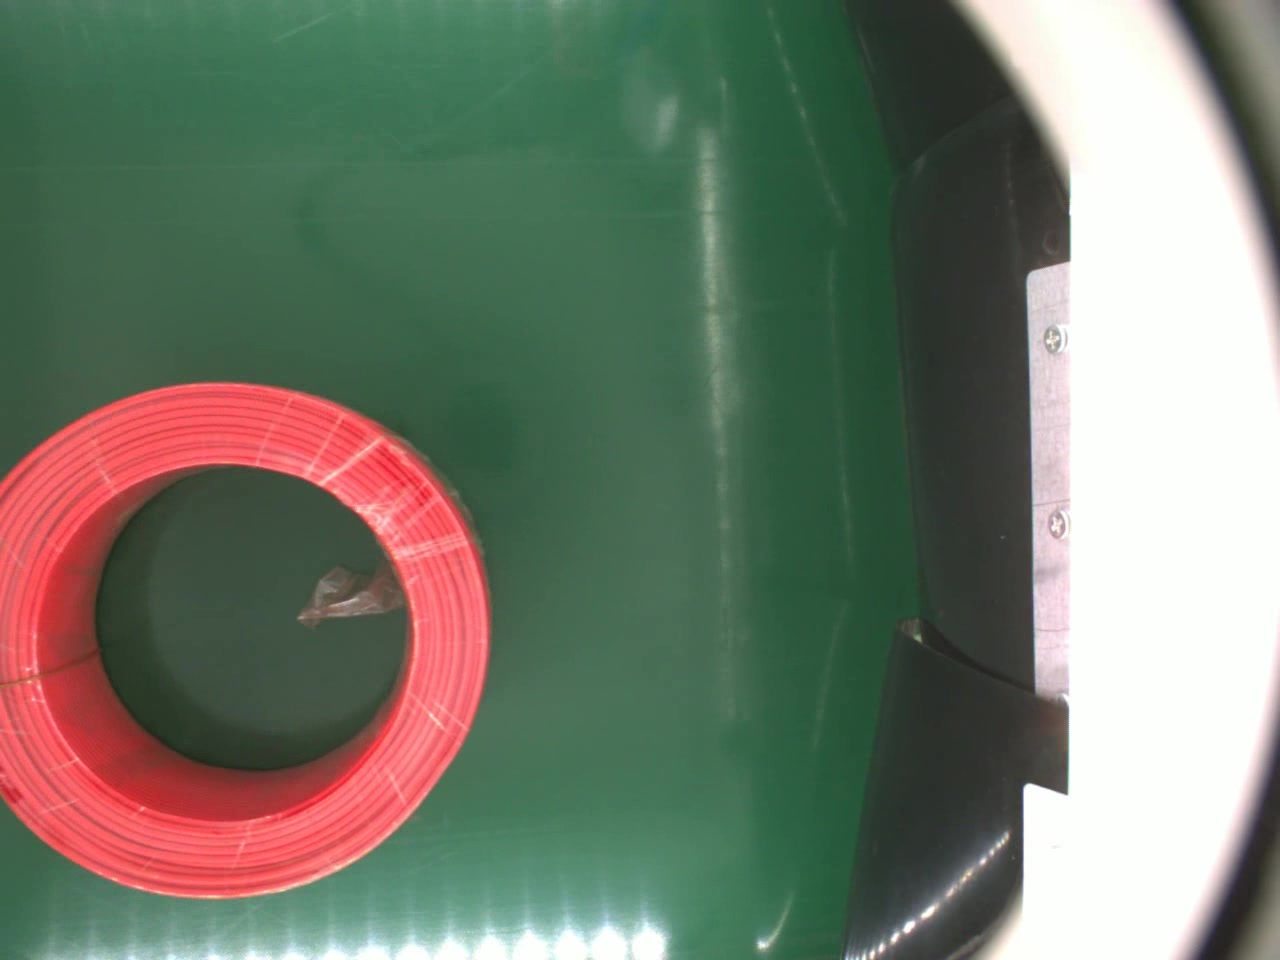red: (0, 377, 493, 909)
